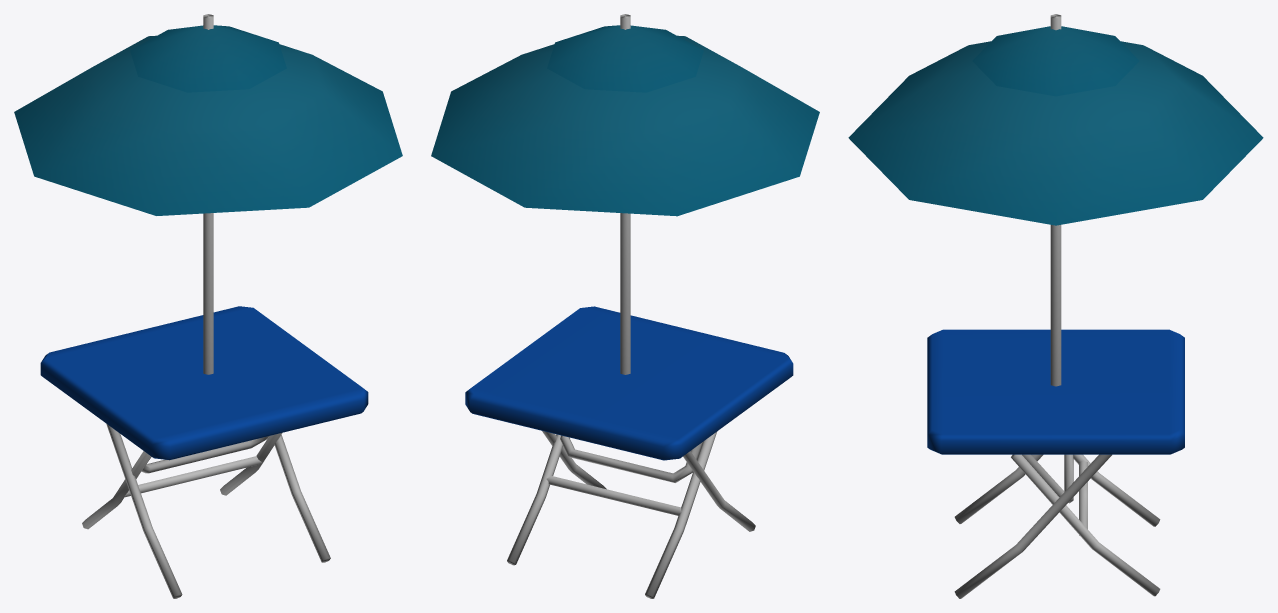
File: TeracceTable_SM 1.fbx
The picture shows the model from 3 angles, left to right: view 1: azimuth 30°, elevation 25°; view 2: azimuth 150°, elevation 25°; view 3: azimuth 270°, elevation 25°; orthographic projection. The views are drawn at different scales.
Parts seen in each view (by area): view 1: TeracceTable_SM; view 2: TeracceTable_SM; view 3: TeracceTable_SM.
Boxes of the visible parts, bbox=[...] form: TeracceTable_SM: bbox=[14, 14, 402, 598]; TeracceTable_SM: bbox=[431, 14, 819, 598]; TeracceTable_SM: bbox=[848, 14, 1263, 598].
Size of the model in its own units: 168 by 244 by 168.
